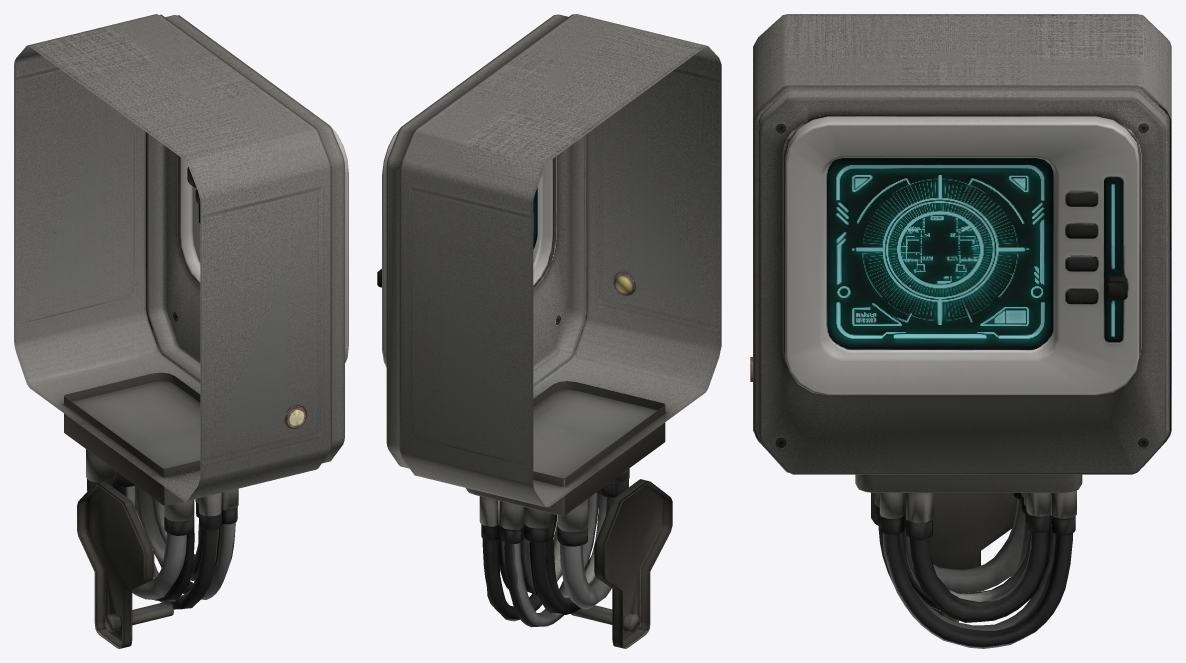
File: tripo_convert_70d64acc-d19a-4d24-a321-5c76887ff5f3.fbx
3 renders of one model, left to right at view 1: azimuth 30°, elevation 25°; view 2: azimuth 150°, elevation 25°; view 3: azimuth 270°, elevation 25°, orthographic. The views are drawn at different scales.
Visible parts, largest first — view 1: tripo_node_70d64acc; view 2: tripo_node_70d64acc; view 3: tripo_node_70d64acc.
Boxes of the visible parts, x1,y1,x2,y2 form: tripo_node_70d64acc: (14, 14, 348, 648); tripo_node_70d64acc: (377, 14, 721, 648); tripo_node_70d64acc: (750, 14, 1171, 648).
Bounding box in the file's own units: 0.3496 × 0.998 × 0.6348.
1 material, 1 textured.
